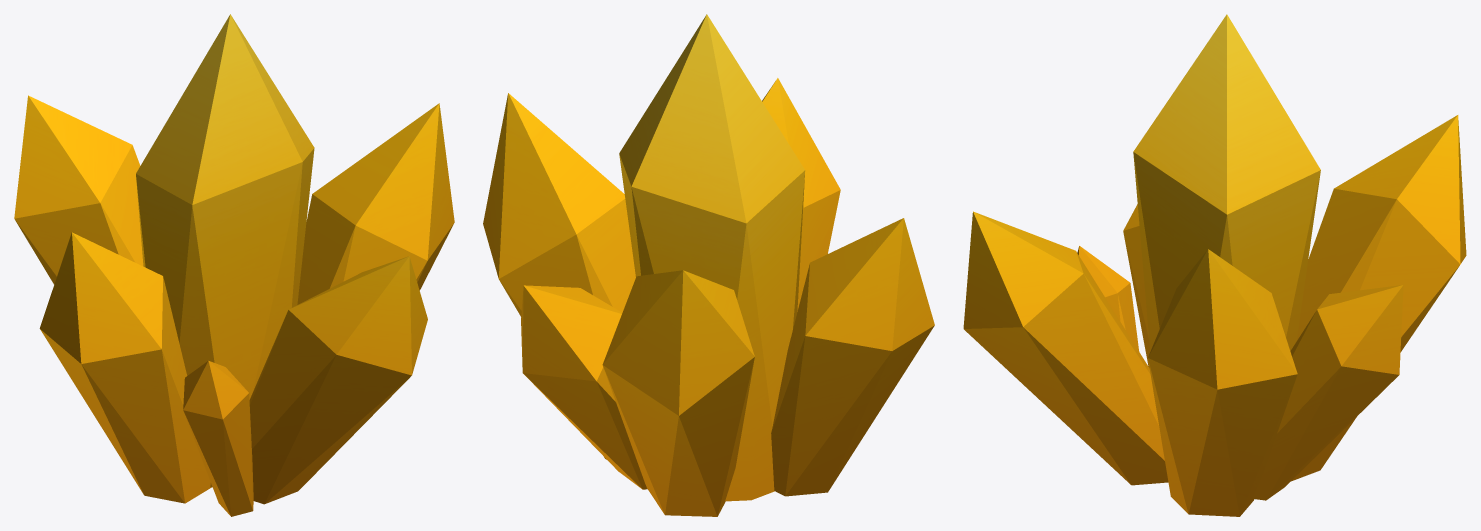
File: Crystal_yellow_02.fbx
3 views of the same model, side by side, from view 1: azimuth 30°, elevation 25°; view 2: azimuth 150°, elevation 25°; view 3: azimuth 270°, elevation 25° (orthographic). The views are drawn at different scales.
Visible parts, largest first — view 1: Crystal_yellow_02; view 2: Crystal_yellow_02; view 3: Crystal_yellow_02.
Boxes of the visible parts, <box> form: Crystal_yellow_02: <box>14,14,454,516</box>; Crystal_yellow_02: <box>483,14,934,516</box>; Crystal_yellow_02: <box>963,14,1466,516</box>.
Bounding box in the file's own units: 169 × 181 × 177.
